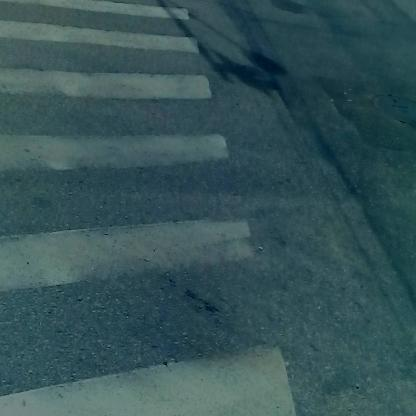crosswalk: (2, 1, 291, 416)
